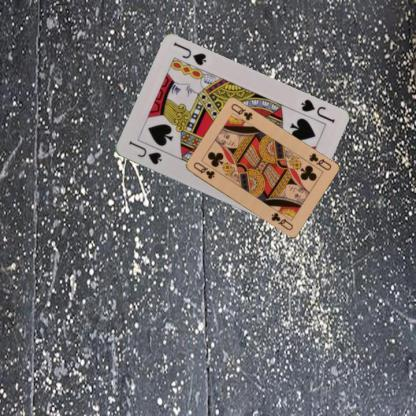Js: (298, 96, 336, 125), (125, 138, 163, 166)
Qc: (306, 150, 332, 172), (190, 160, 216, 180)
